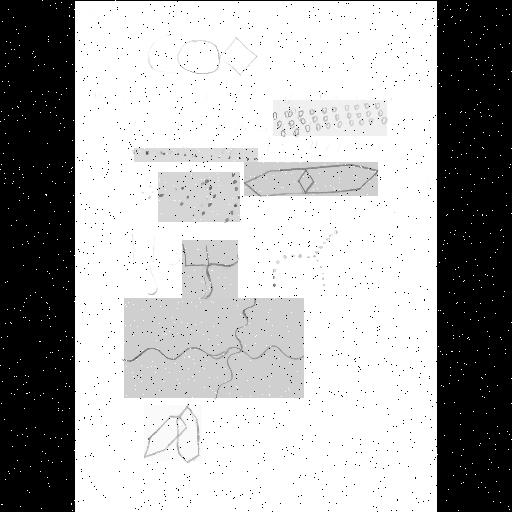shape-1: (177, 37, 257, 75)
shape-2: (134, 148, 258, 162)
shape-3: (273, 100, 387, 136)
shape-4: (158, 172, 240, 222)
shape-5: (182, 240, 238, 298)
shape-6: (274, 230, 336, 286)
shape-7: (124, 298, 304, 398)
shape-8: (144, 405, 202, 461)
shape-9: (244, 162, 378, 196)
